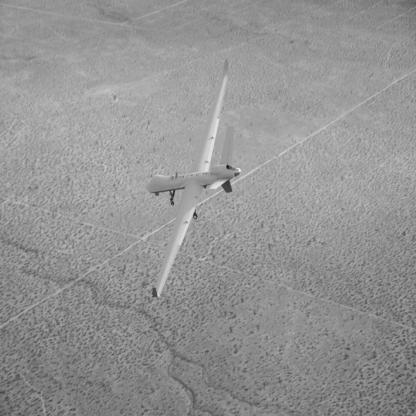MQ9: (142, 59, 243, 299)
